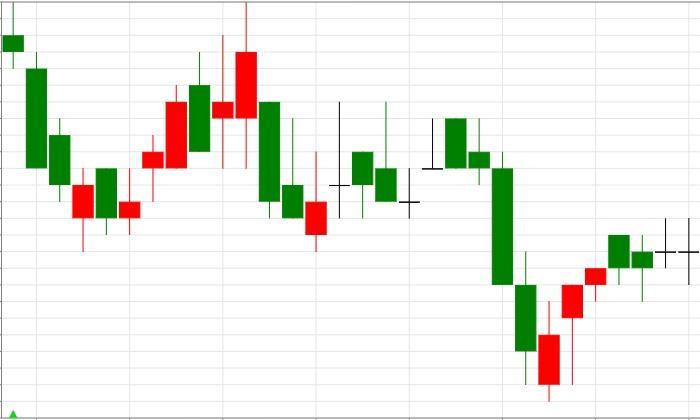three_white_soldiers_rise: (422, 119, 606, 401)
